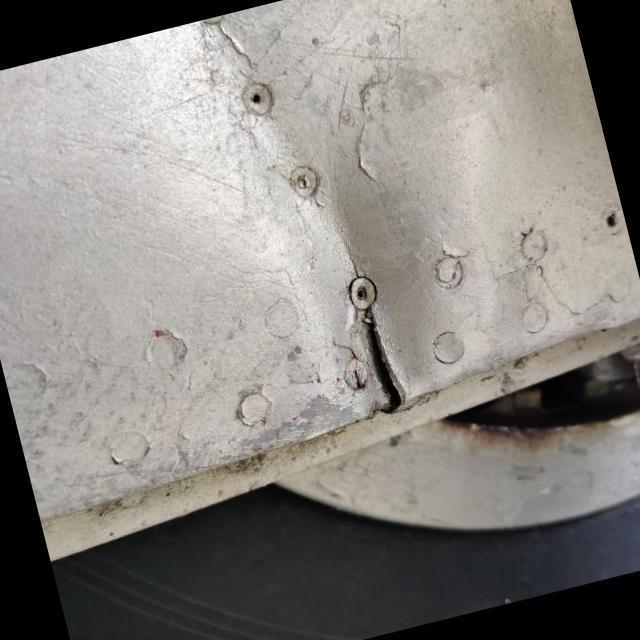Rupture: (321, 285, 442, 433)
